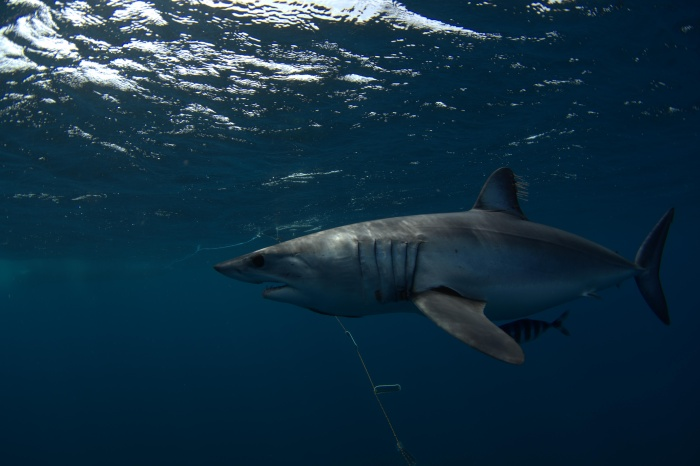Mako: (203, 165, 688, 376)
